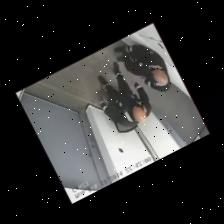person: (98, 61, 151, 125), (114, 43, 170, 91)
